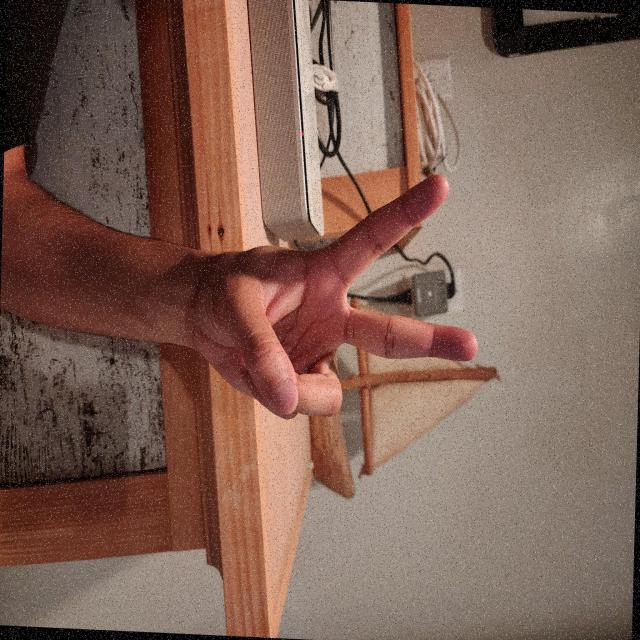V: (271, 205, 484, 616)
